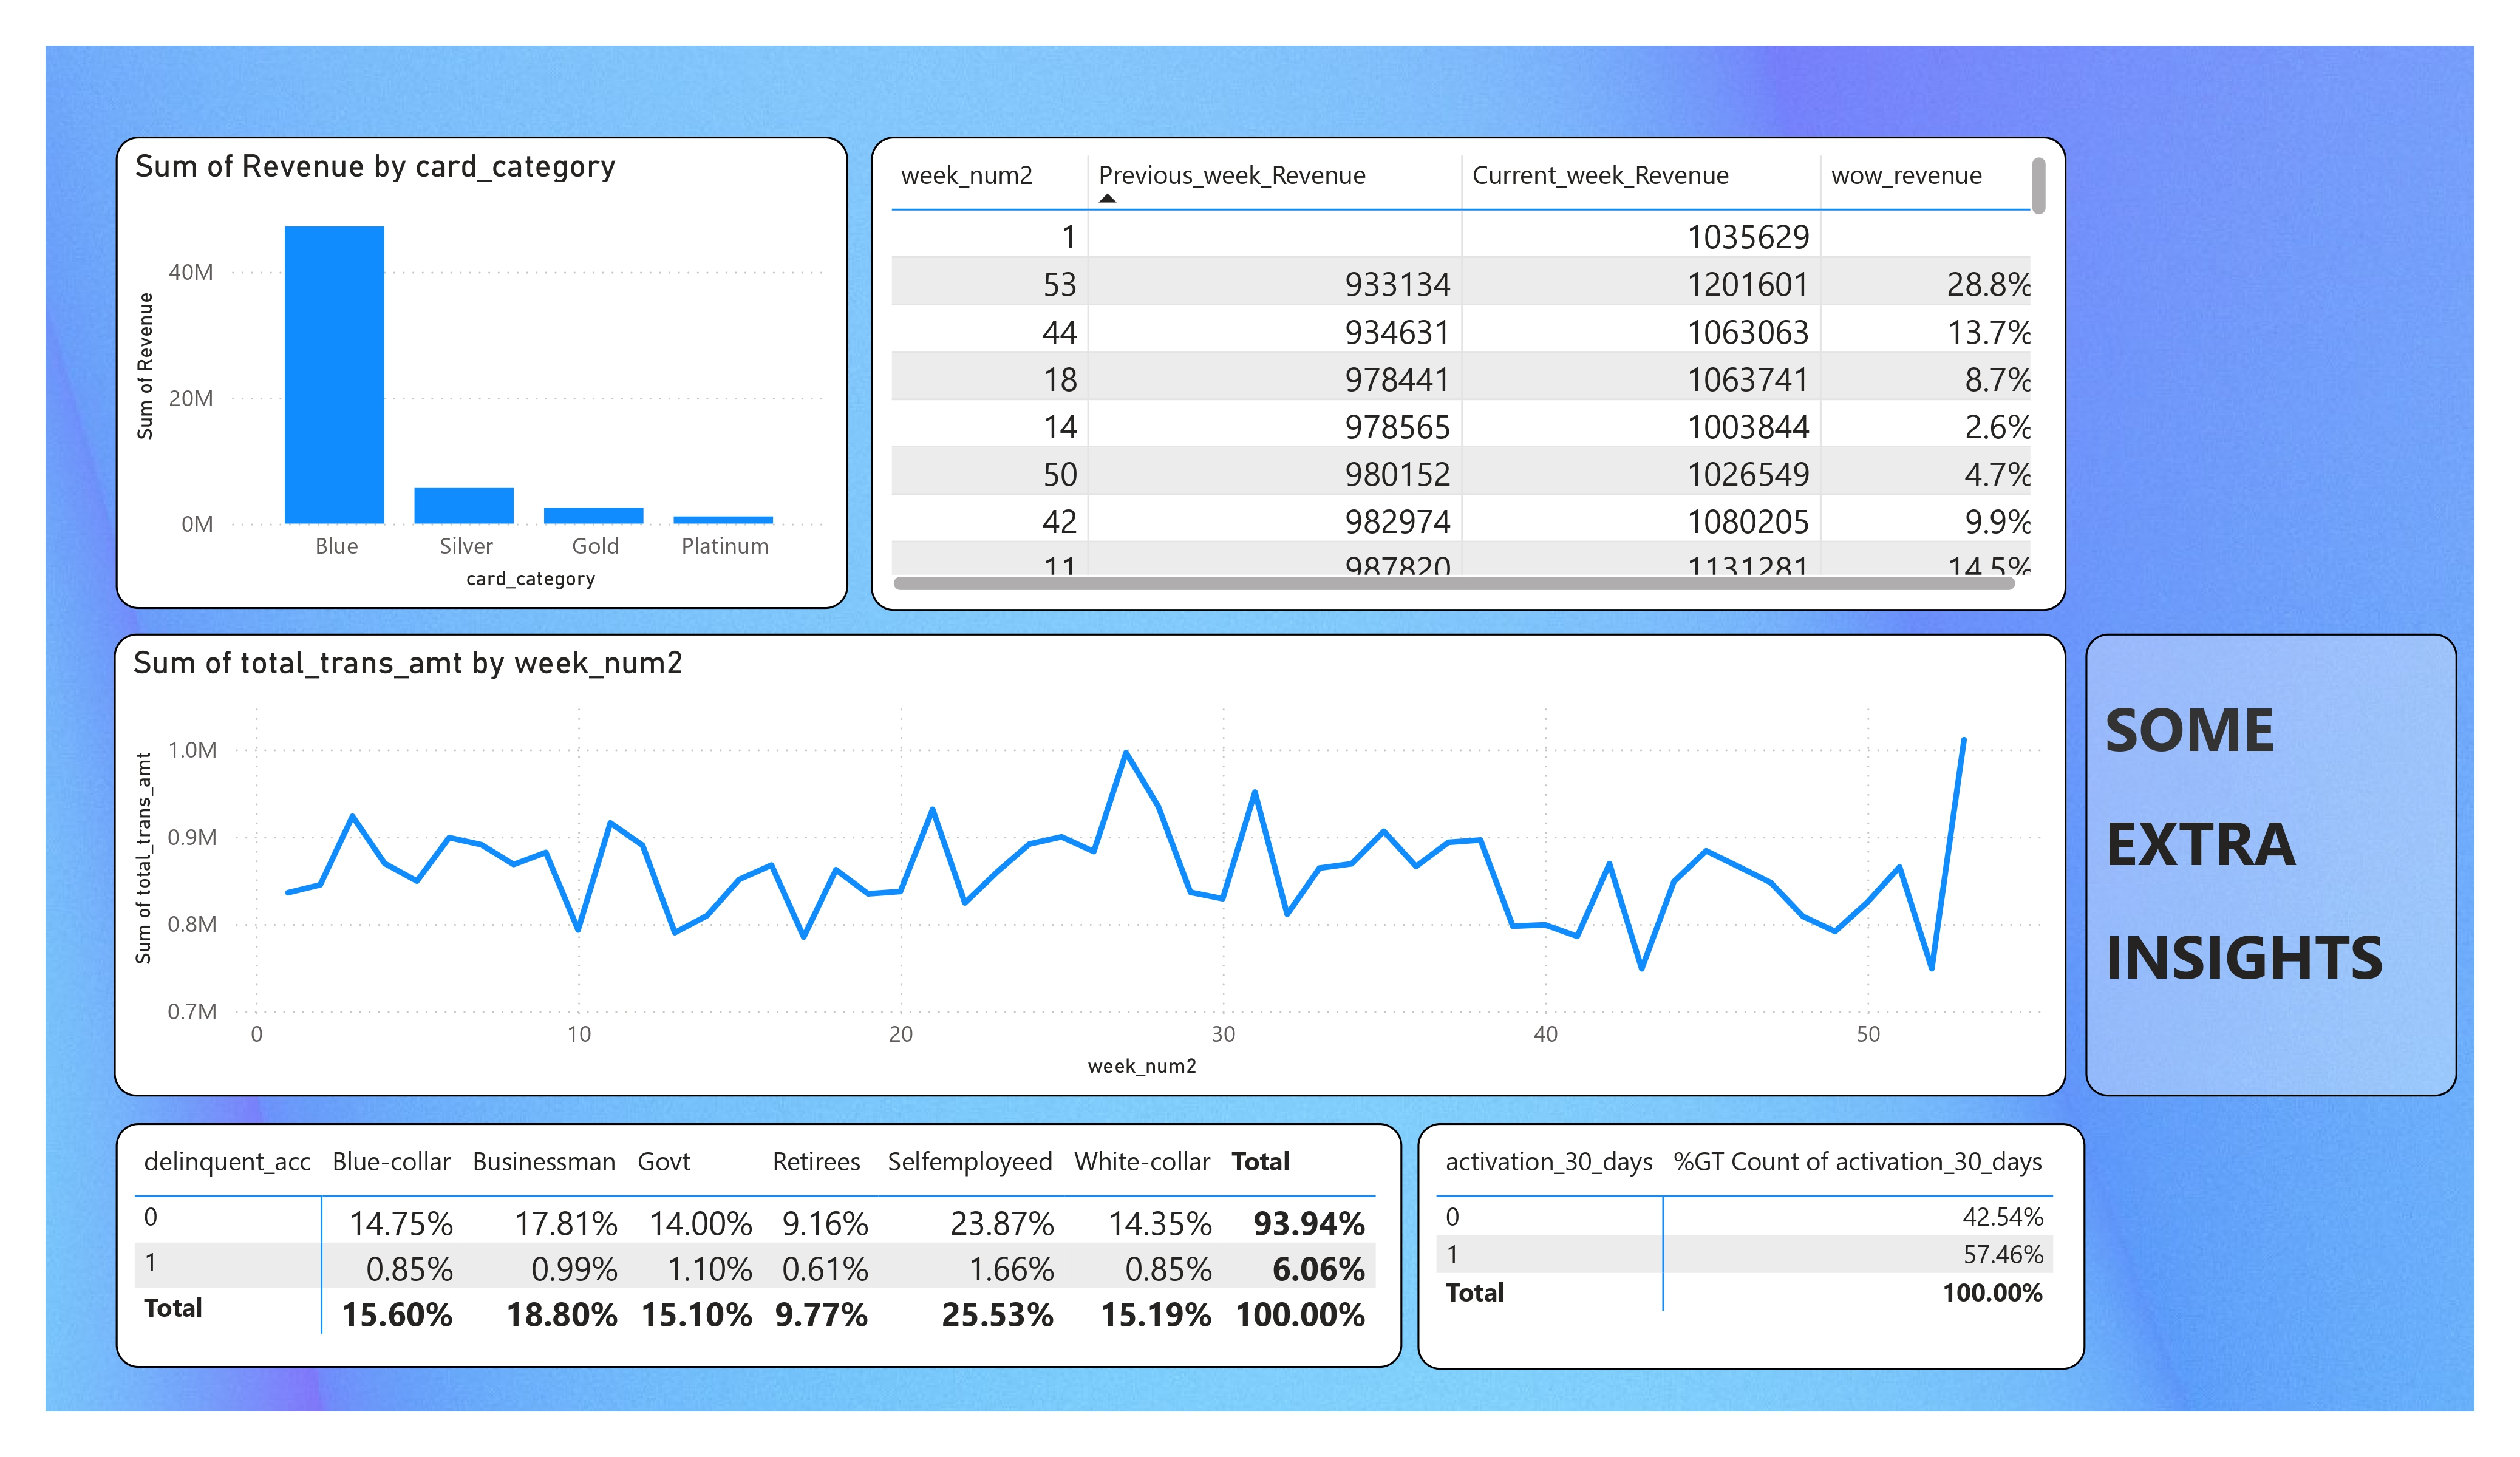

This screenshot's page, from the dashboard's own definition file:
{"tool":"powerbi","page":{"name":"Some Extra Insights","canvas":[1280,720],"ordinal":2},"visuals":[{"type":"tableEx","fields":{"Values":["public cc_detail.week_num2","public cc_detail.Previous_week_Revenue","public cc_detail.Current_week_Revenue","public cc_detail.wow_revenue"]},"box":[435,47.5,630,250],"z":0},{"type":"columnChart","fields":{"Category":["public cc_detail.card_category"],"Y":["Sum(public cc_detail.Revenue)"]},"box":[36.6,47.9,385.9,249.3],"z":1},{"type":"lineChart","fields":{"Category":["public cc_detail.week_num2","public cc_detail.week_start_date.Variation.Date Hierarchy.Month","public cc_detail.week_start_date.Variation.Date Hierarchy.Day"],"Y":["Sum(public cc_detail.total_trans_amt)"]},"box":[36.2,310,1028.8,243.8],"z":2},{"type":"pivotTable","fields":{"Rows":["public cc_detail.delinquent_acc"],"Values":["Min(public cc_detail.delinquent_acc)"],"Columns":["public cust_detail.customer_job"]},"box":[36.6,567.6,678.9,129.6],"z":3},{"type":"pivotTable","fields":{"Values":["Sum(public cc_detail.activation_30_days)"],"Rows":["public cc_detail.activation_30_days"]},"box":[722.5,567.5,352.5,130],"z":4},{"type":"textbox","box":[1075,310,196.2,243.8],"z":5}]}

Visuals, with their boxes in screenshot pixels (x1, y1, x2, y2):
tableEx - public cc_detail.week_num2 x public cc_detail.Previous_week_Revenue: {"x1": 867, "y1": 141, "x2": 2047, "y2": 610}
columnChart - public cc_detail.card_category x Sum(public cc_detail.Revenue): {"x1": 121, "y1": 142, "x2": 843, "y2": 609}
lineChart - public cc_detail.week_num2 x public cc_detail.week_start_date.Variation.Date Hierarchy.Month: {"x1": 120, "y1": 633, "x2": 2047, "y2": 1089}
pivotTable - public cc_detail.delinquent_acc x Min(public cc_detail.delinquent_acc): {"x1": 121, "y1": 1115, "x2": 1392, "y2": 1358}
pivotTable - Sum(public cc_detail.activation_30_days) x public cc_detail.activation_30_days: {"x1": 1406, "y1": 1115, "x2": 2066, "y2": 1359}
textbox: {"x1": 2066, "y1": 633, "x2": 2433, "y2": 1089}
